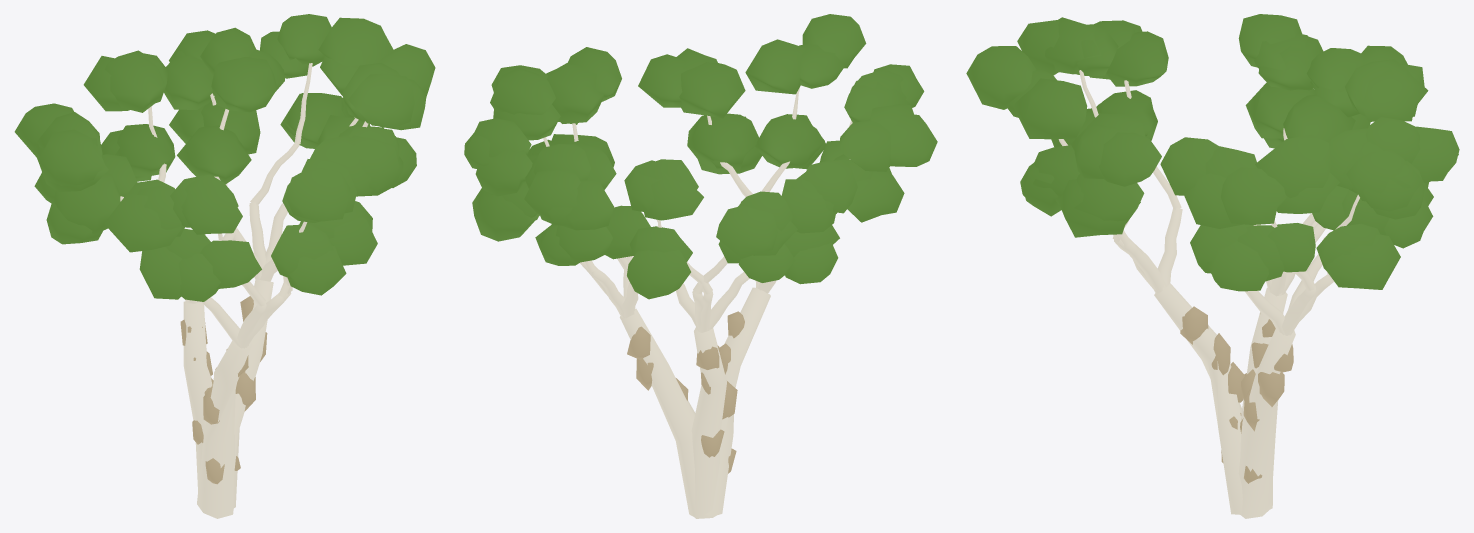
Rendered from Blender_Sycamore_1.glb.
3 renders of one model, left to right at view 1: azimuth 30°, elevation 25°; view 2: azimuth 150°, elevation 25°; view 3: azimuth 270°, elevation 25°, orthographic. The views are drawn at different scales.
Visible parts, largest first — view 1: Blender_Sycamore_1; view 2: Blender_Sycamore_1; view 3: Blender_Sycamore_1.
Boxes of the visible parts, bbox=[...] form: Blender_Sycamore_1: bbox=[14, 14, 435, 518]; Blender_Sycamore_1: bbox=[464, 14, 937, 518]; Blender_Sycamore_1: bbox=[966, 14, 1459, 518].
Size of the model in its own units: 17.93 by 19.02 by 18.62.
